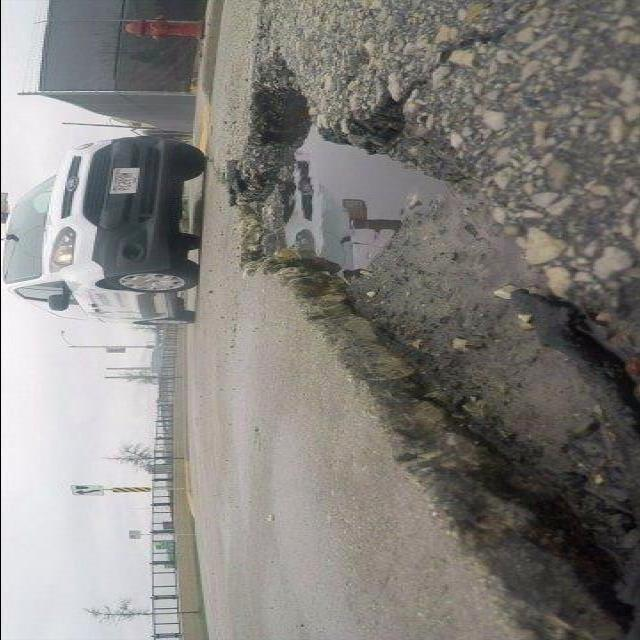lubang: (201, 94, 627, 599)
